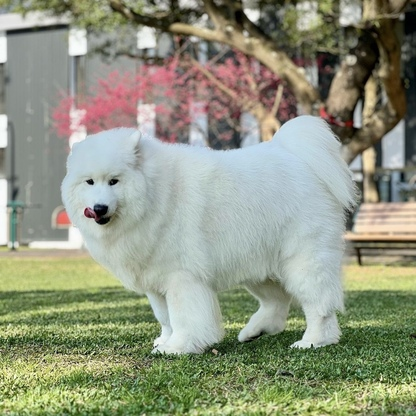samoyed: (57, 111, 368, 359)
